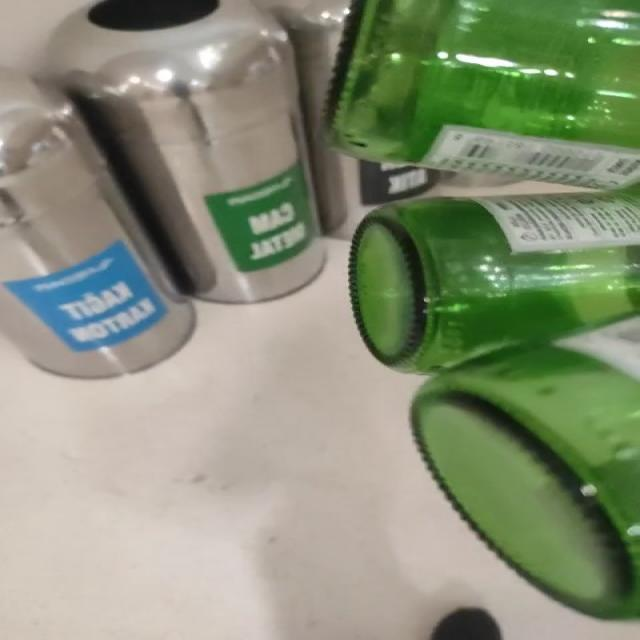Glass: (329, 0, 640, 620)
